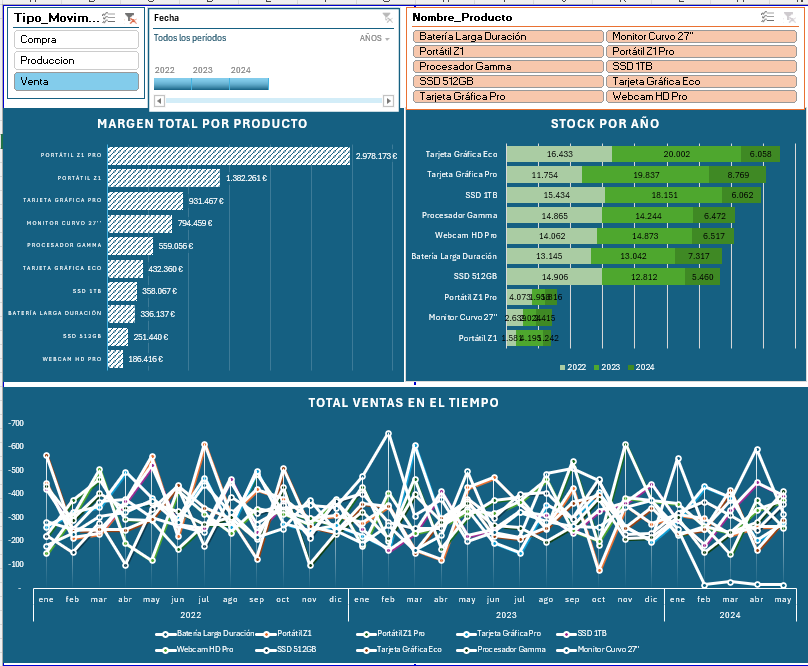

What the dashboard file says about the page in this screenshot:
{"tool":"powerbi","page":{"name":"Page 1","canvas":[1280,720],"ordinal":0},"visuals":[{"type":"kpi","fields":{"Indicator":["Sum(datos_empresa.Margen)"],"TrendLine":["datos_empresa.ID_Producto"]},"box":[0,0,278.9,112.6],"z":0},{"type":"kpi","fields":{"Indicator":["Sum(datos_empresa.Ingresos)"],"TrendLine":["datos_empresa.ID_Producto"]},"box":[278.9,0,277.5,112.6],"z":1000},{"type":"kpi","fields":{"Indicator":["datos_empresa.Unidades Vendidas"],"TrendLine":["datos_empresa.ID_Producto"]},"box":[556.3,0,278.9,112.6],"z":2000},{"type":"clusteredBarChart","fields":{"Category":["datos_empresa.Nombre_Producto"],"Y":["datos_empresa.Margen Total"],"Series":["datos_empresa.ID_Producto"]},"box":[0,112.6,570.1,307.7],"z":3000},{"type":"actionButton","box":[0,0,100,40],"z":4000},{"type":"lineChart","fields":{"Category":["Calendario.Date.Variation.Date Hierarchy.Year","Calendario.Date.Variation.Date Hierarchy.Quarter","Calendario.Date.Variation.Date Hierarchy.Month","Calendario.Date.Variation.Date Hierarchy.Day"],"Y":["datos_empresa.Unidades Vendidas"],"Series":["datos_empresa.Nombre_Producto"]},"box":[570.1,291.2,678.6,428.6],"z":5000},{"type":"slicer","fields":{"Values":["datos_empresa.Nombre_Producto"]},"box":[835.2,0,413.5,229.4],"z":5001},{"type":"lineStackedColumnComboChart","fields":{"Category":["datos_empresa.Nombre_Producto"],"Y":["datos_empresa.Stock Final","datos_empresa.Unidades Vendidas"],"Y2":["Calendario.Diferencia"]},"box":[0,420.3,570.1,299.5],"z":5002},{"type":"slicer","fields":{"Values":["Calendario.Año"]},"box":[556.3,112.6,302.2,116.8],"z":5003}]}

Visuals, with their boxes on the page's 1280x720 design canvas (x1, y1, x2, y2). These are canvas units, not pixel positions in the 808x666 screenshot, which may show the page scaled, cropped or inside an application window:
kpi - Sum(datos_empresa.Margen) x datos_empresa.ID_Producto: BBox(0, 0, 279, 113)
kpi - Sum(datos_empresa.Ingresos) x datos_empresa.ID_Producto: BBox(279, 0, 556, 113)
kpi - datos_empresa.Unidades Vendidas x datos_empresa.ID_Producto: BBox(556, 0, 835, 113)
clusteredBarChart - datos_empresa.Nombre_Producto x datos_empresa.Margen Total: BBox(0, 113, 570, 420)
actionButton: BBox(0, 0, 100, 40)
lineChart - Calendario.Date.Variation.Date Hierarchy.Year x Calendario.Date.Variation.Date Hierarchy.Quarter: BBox(570, 291, 1249, 720)
slicer - datos_empresa.Nombre_Producto: BBox(835, 0, 1249, 229)
lineStackedColumnComboChart - datos_empresa.Nombre_Producto x datos_empresa.Stock Final: BBox(0, 420, 570, 720)
slicer - Calendario.Año: BBox(556, 113, 858, 229)
